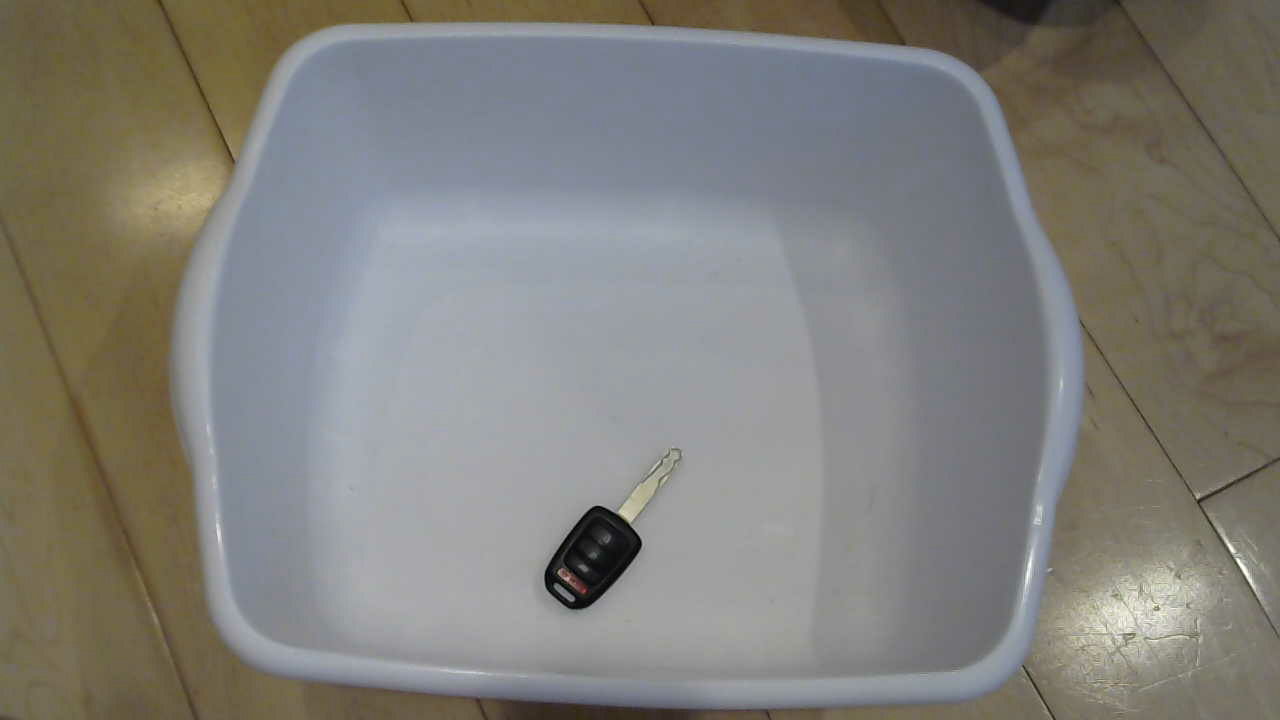key: (541, 446, 695, 620)
